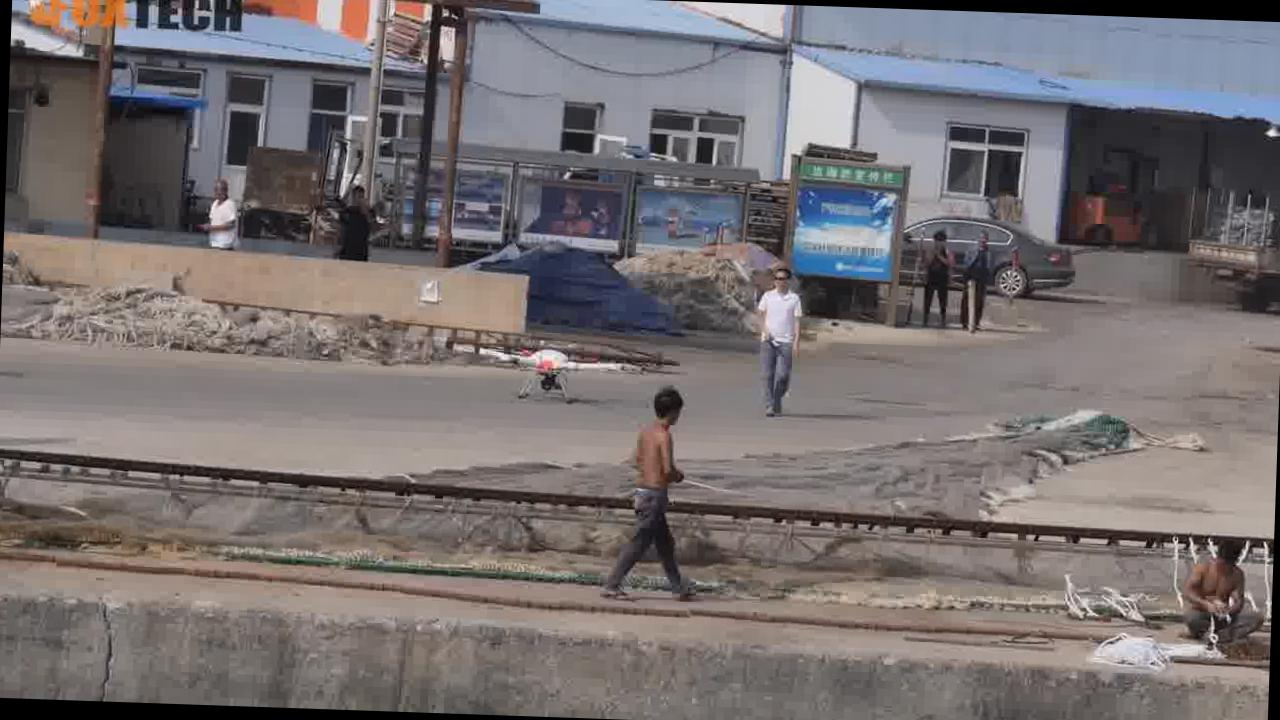drone: (466, 336, 640, 409)
